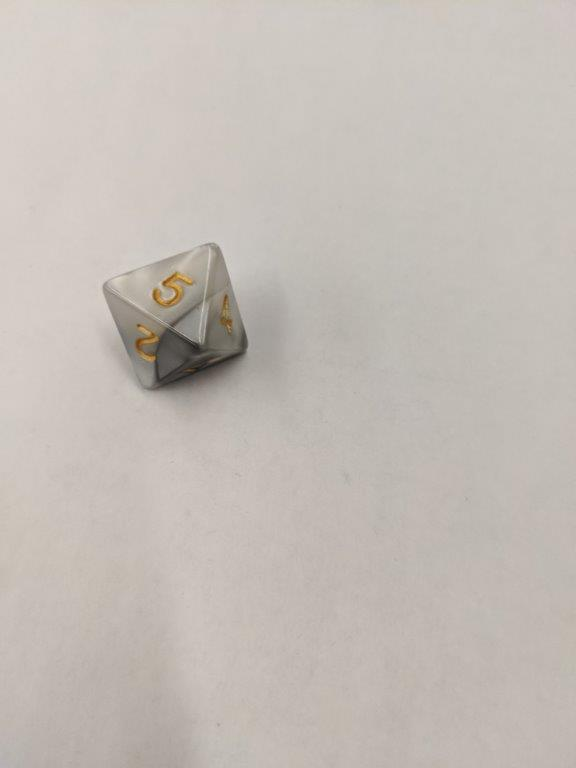d8-5: (101, 239, 250, 399)
